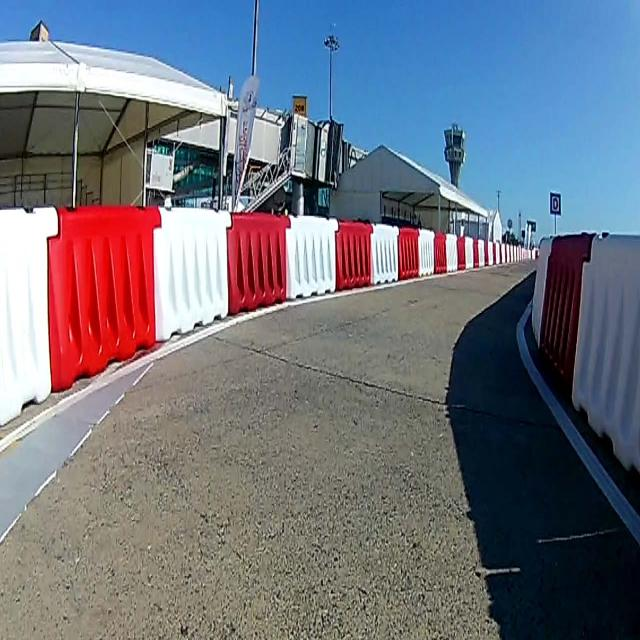durak: (550, 192, 560, 213)
